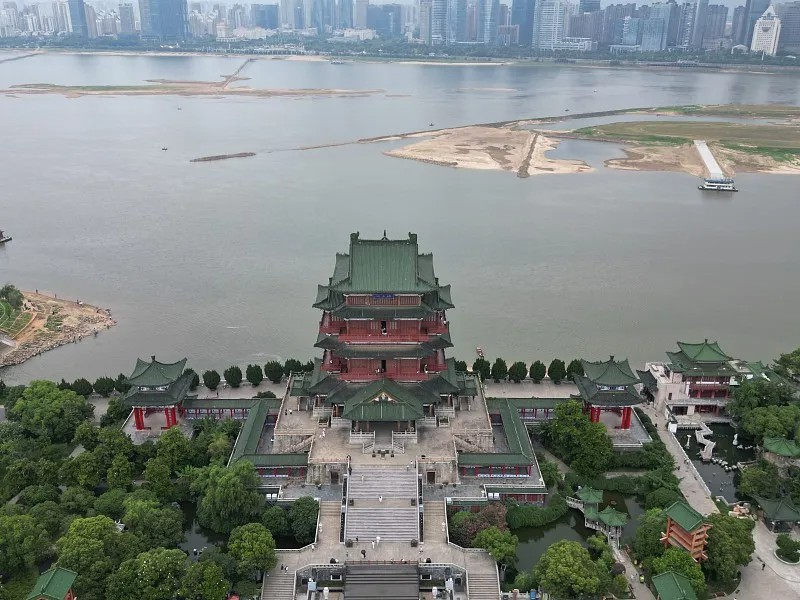Teng: (289, 230, 479, 435)
